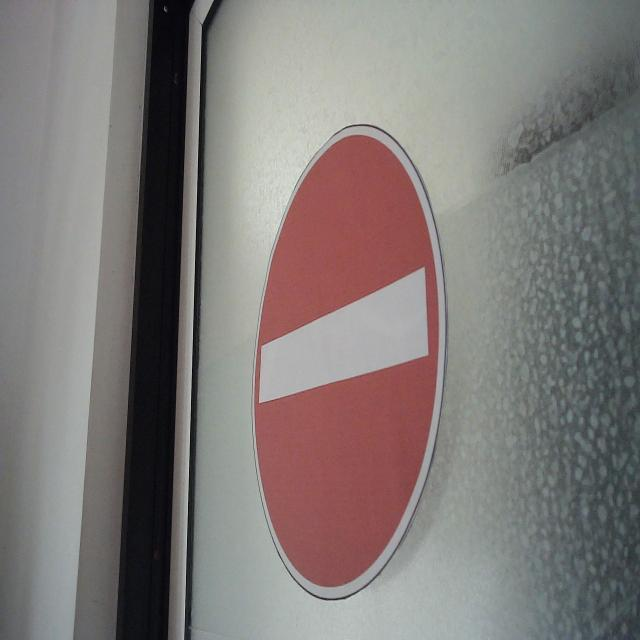no_entry: (250, 121, 451, 605)
